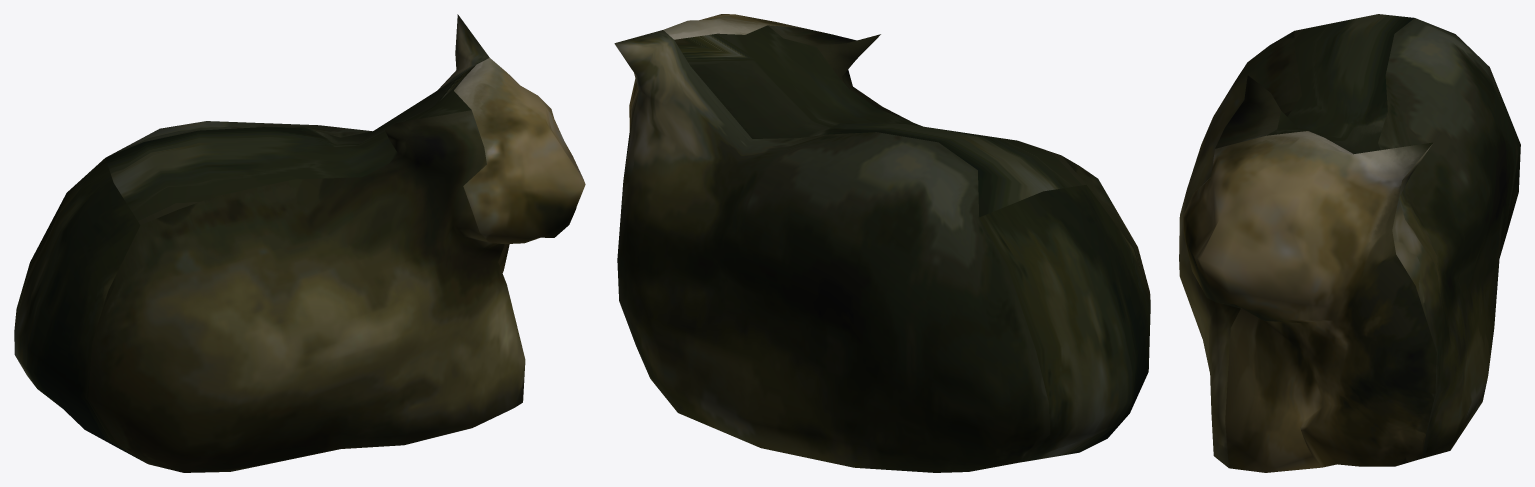
The model's file is oiiai.glb.
The picture shows the model from 3 angles, left to right: view 1: azimuth 30°, elevation 25°; view 2: azimuth 150°, elevation 25°; view 3: azimuth 270°, elevation 25°; orthographic projection. The views are drawn at different scales.
Parts seen in each view (by area): view 1: dingus_dingus_0; view 2: dingus_dingus_0; view 3: dingus_dingus_0.
Part boxes in pixels (x1,y1,x2,y2): dingus_dingus_0: [14, 14, 585, 472]; dingus_dingus_0: [614, 14, 1150, 472]; dingus_dingus_0: [1179, 14, 1520, 472].
Size of the model in its own units: 2.4 by 1.55 by 1.33.
Materials: 1 (1 with a texture image).
